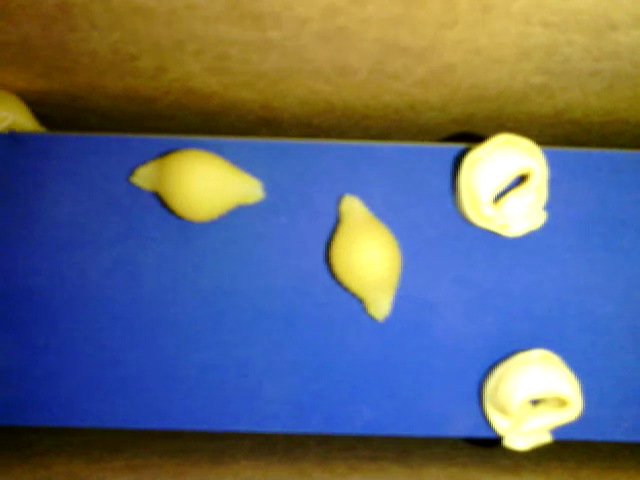shell: (126, 145, 269, 229), (332, 190, 404, 327), (2, 80, 47, 137)
tortellini: (481, 339, 585, 452), (450, 130, 551, 239)
